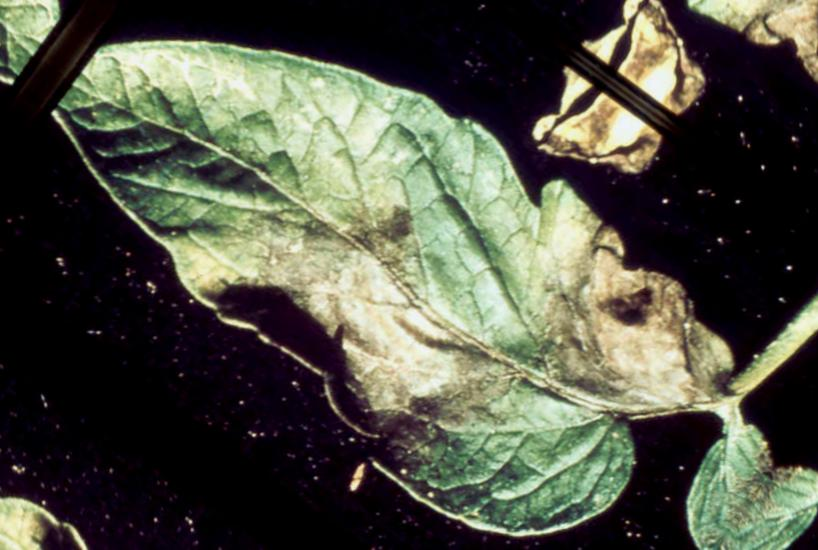Tomato leaf late blight: (0, 0, 778, 550)
